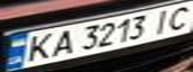1: (115, 16, 136, 44)
2: (96, 19, 121, 48)
3: (75, 21, 103, 52), (127, 12, 154, 41)
A: (45, 28, 78, 58)
C: (160, 3, 193, 32)
I: (148, 7, 178, 35)
K: (18, 30, 60, 63)
